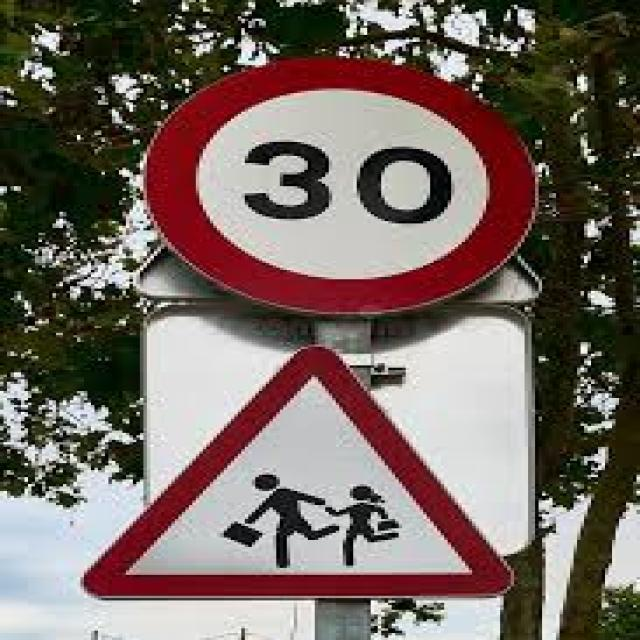Speed limit 30: (137, 55, 543, 318)
